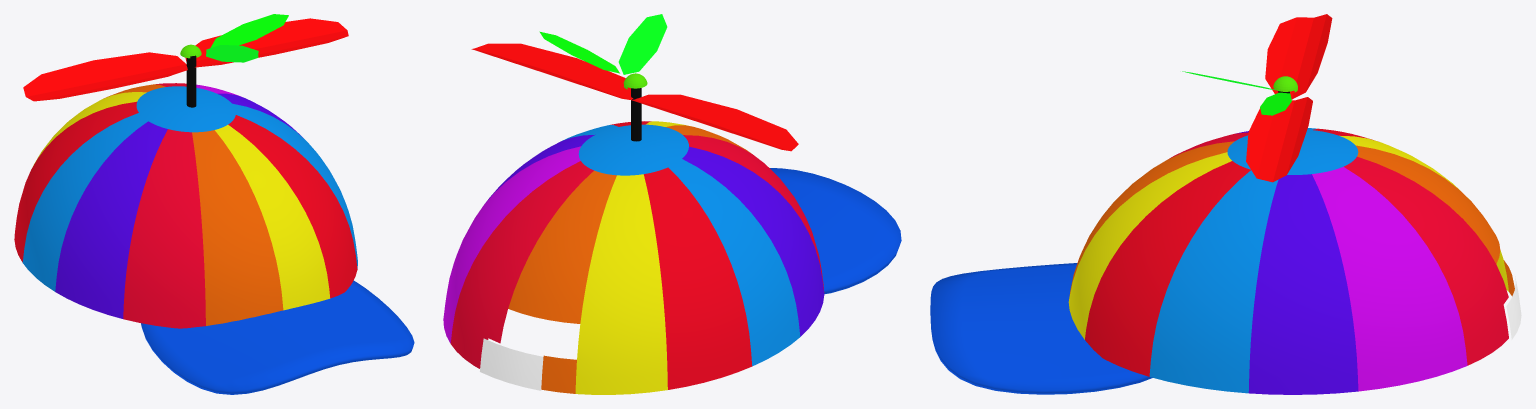
Rendered from Propeller Hat.glb.
3 views of the same model, side by side, from view 1: azimuth 30°, elevation 25°; view 2: azimuth 150°, elevation 25°; view 3: azimuth 270°, elevation 25° (orthographic). The views are drawn at different scales.
Parts seen in each view (by area): view 1: Cap_base_2, Plane_3, wing2.001_9, wing2_6, wing3_7, wing4_8, Cylinder_5; view 2: Cap_base_2, Plane_3, wing2.001_9, wing2_6, Velcro_4, wing4_8, wing3_7, Cylinder_5; view 3: Cap_base_2, Plane_3, wing2_6, wing2.001_9, wing3_7, Velcro_4.
Part boxes in pixels (box(x1,y1,x2,y2)): Cap_base_2: box(14, 83, 357, 328); Plane_3: box(141, 280, 414, 394); wing2.001_9: box(23, 52, 187, 101); wing2_6: box(185, 18, 348, 67); wing3_7: box(210, 14, 288, 47); wing4_8: box(206, 45, 258, 62); Cylinder_5: box(186, 55, 196, 107); Cap_base_2: box(443, 121, 824, 394); Plane_3: box(770, 168, 901, 294); wing2.001_9: box(632, 94, 798, 151); wing2_6: box(471, 43, 633, 100); Velcro_4: box(480, 338, 543, 390); wing4_8: box(618, 14, 667, 74); wing3_7: box(539, 31, 619, 73); Cylinder_5: box(631, 88, 641, 141); Cap_base_2: box(1068, 128, 1514, 394); Plane_3: box(930, 263, 1152, 394); wing2_6: box(1246, 97, 1312, 182); wing2.001_9: box(1265, 14, 1332, 99); wing3_7: box(1260, 92, 1291, 115); Velcro_4: box(1506, 276, 1521, 339).
Size of the model in its own units: 2.14 by 1.63 by 3.12.
